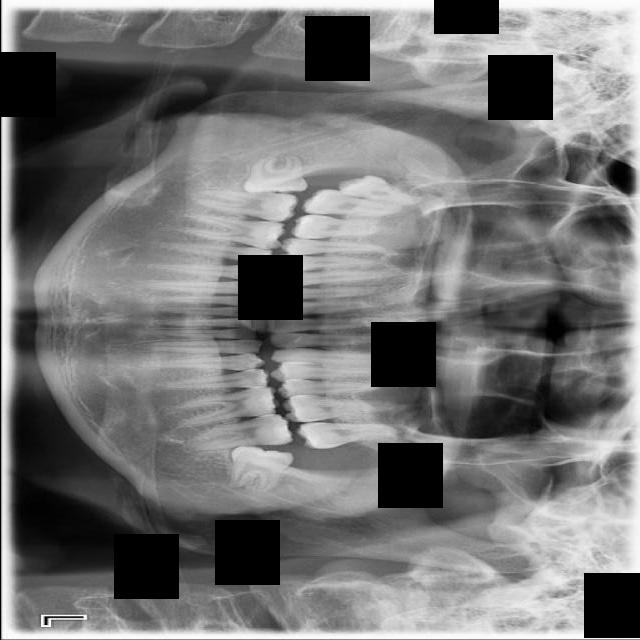3M ESPE Implant: (335, 169, 424, 210)
52: (265, 240, 281, 250)
73: (24, 621, 30, 629)
BioHorizons Implant: (295, 422, 412, 449)
Biomet 3i Implant: (225, 442, 294, 496)
Blue Sky Bio Implant: (189, 412, 294, 452)
Caries: (300, 188, 418, 218)
Implant: (194, 188, 298, 223)
Keystone Dental Implant: (242, 152, 308, 196)
